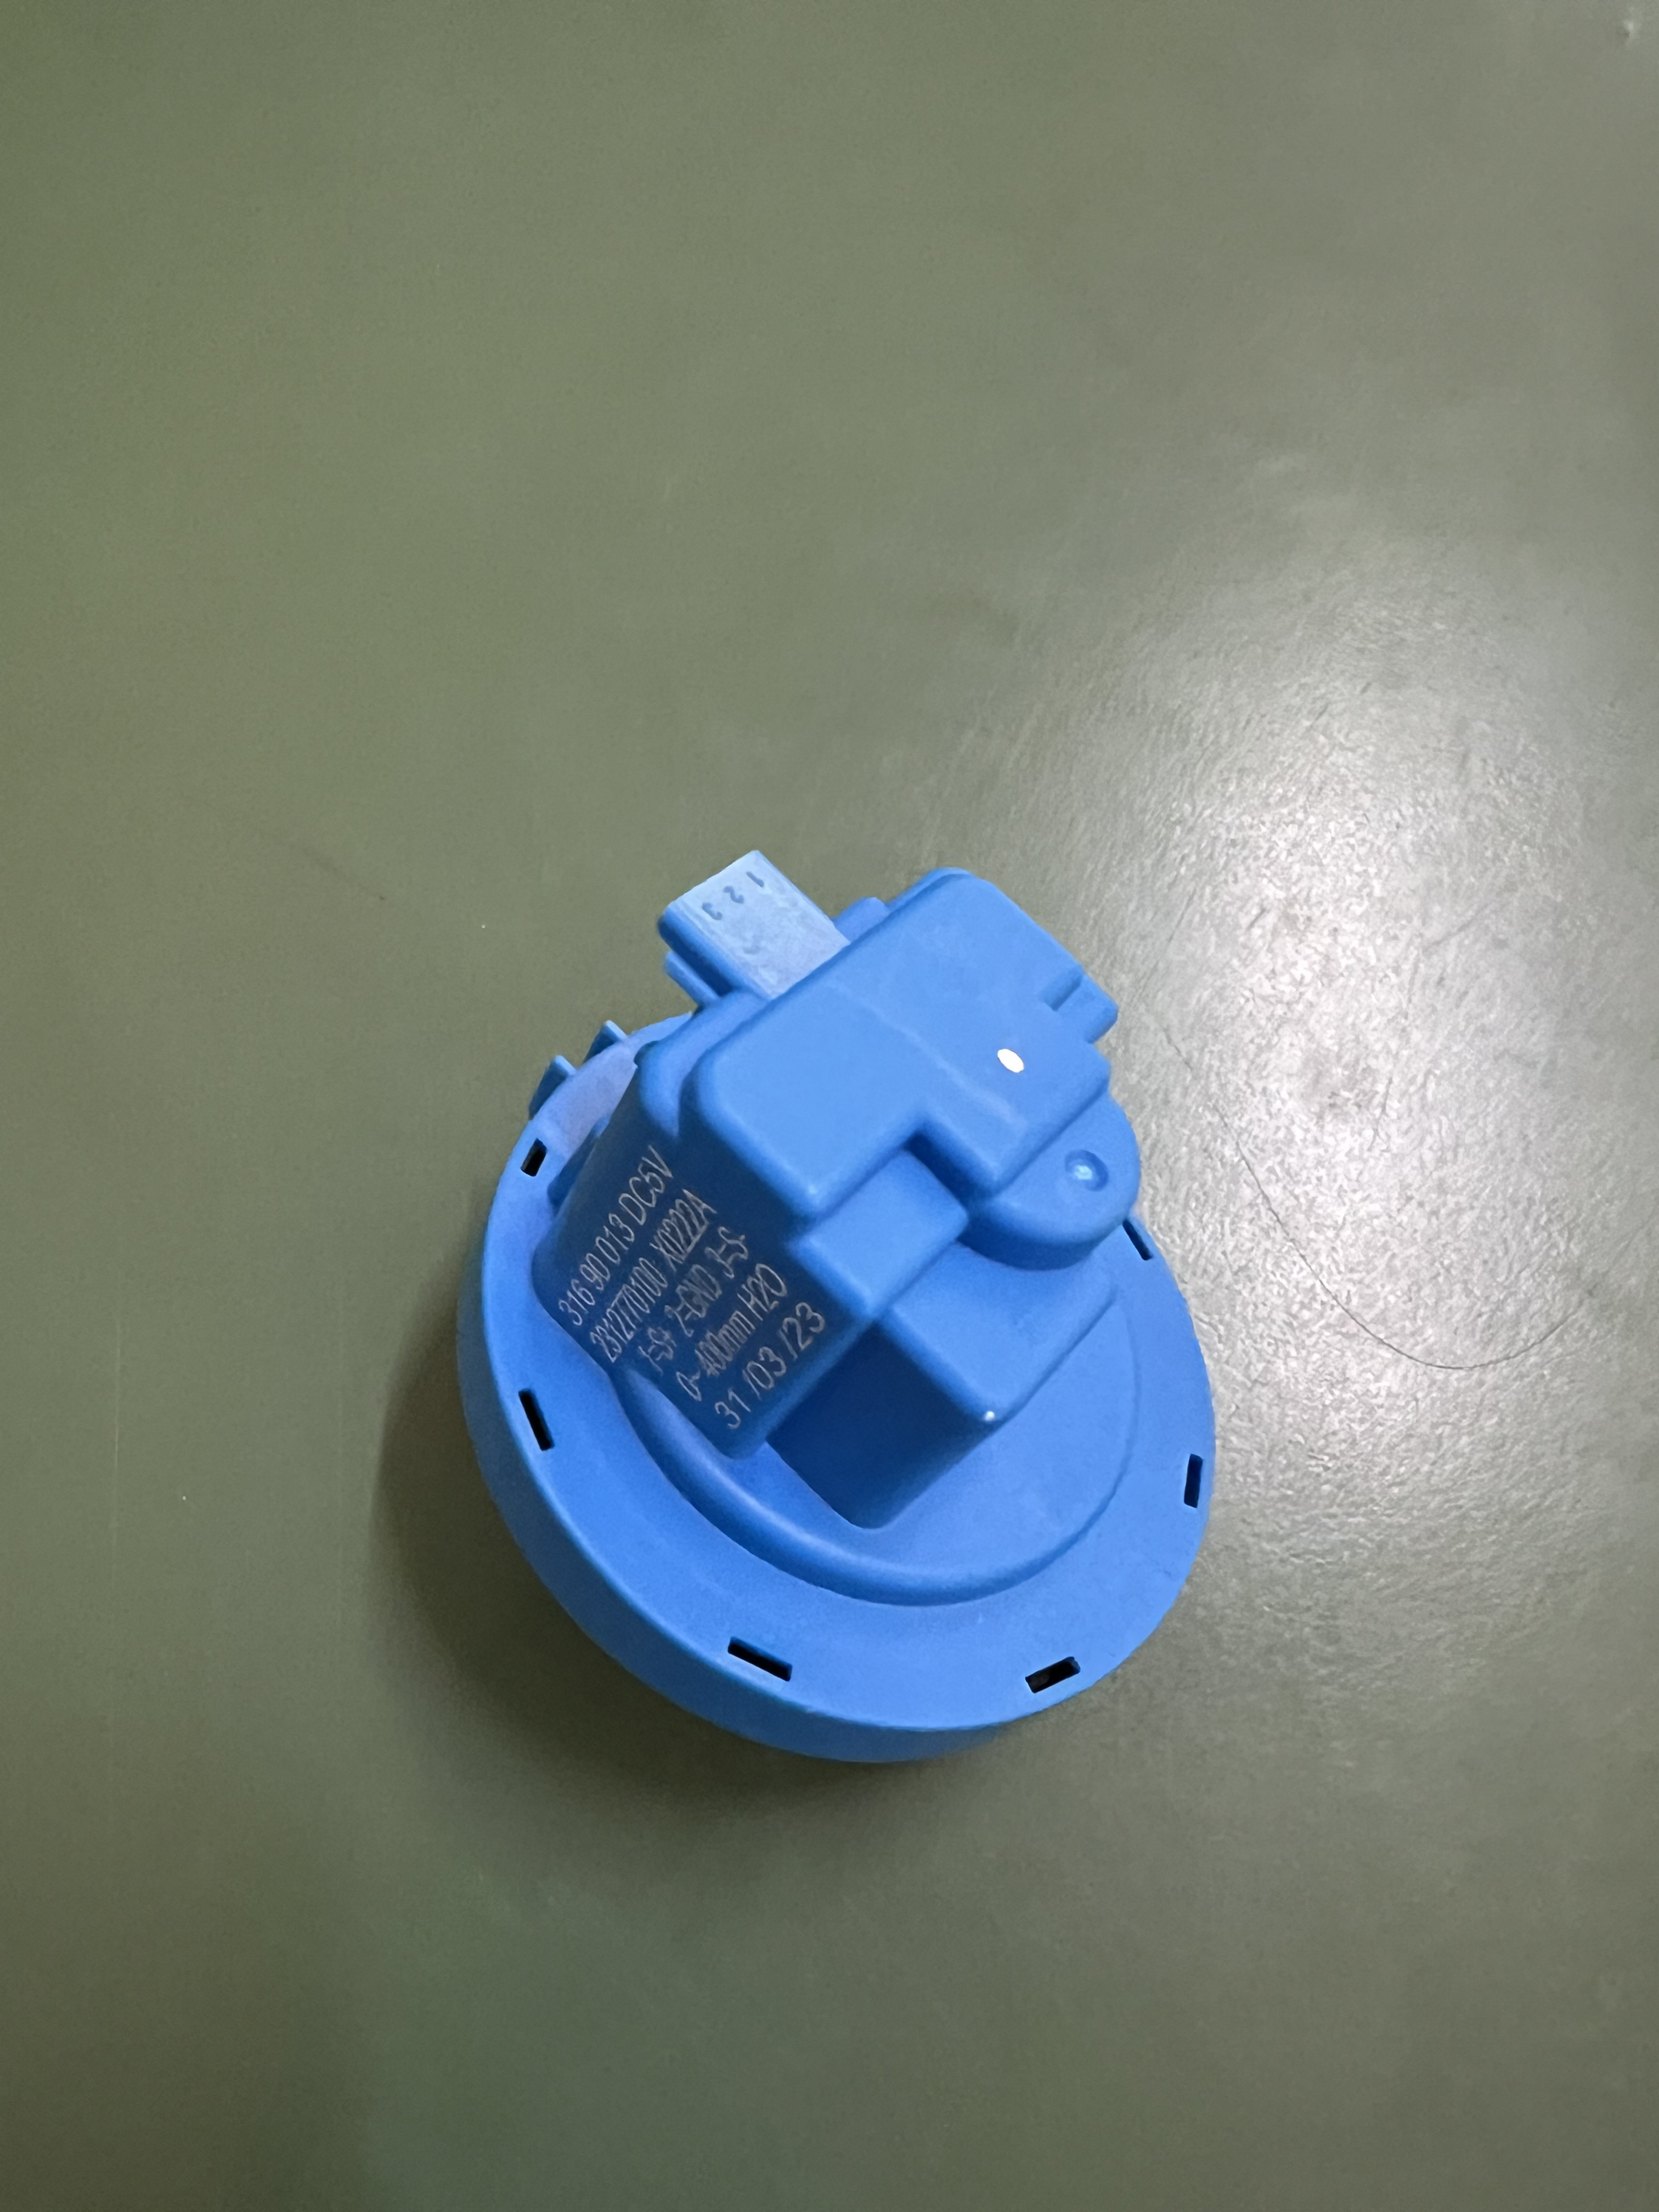voltas_beko_pressure_switch: (386, 857, 1306, 1785)
